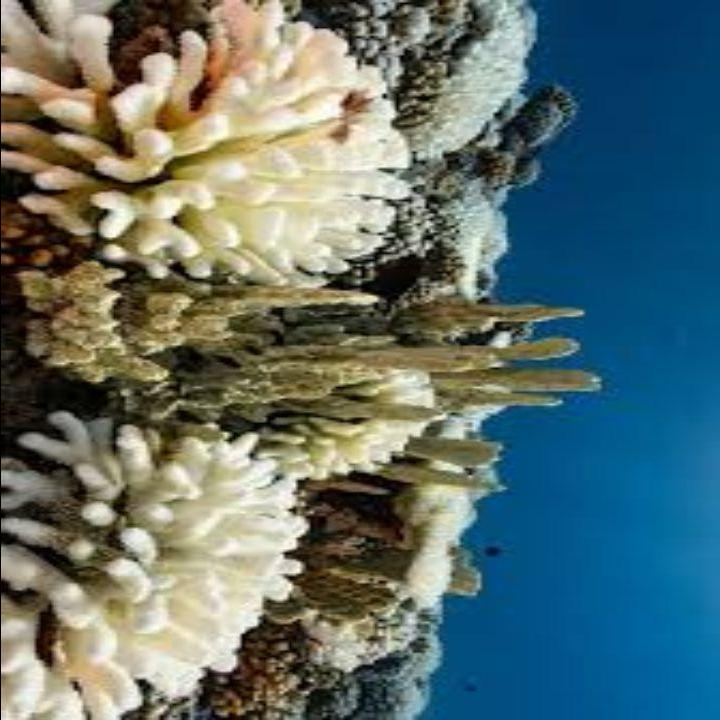Bleached disease: (28, 9, 525, 708)
